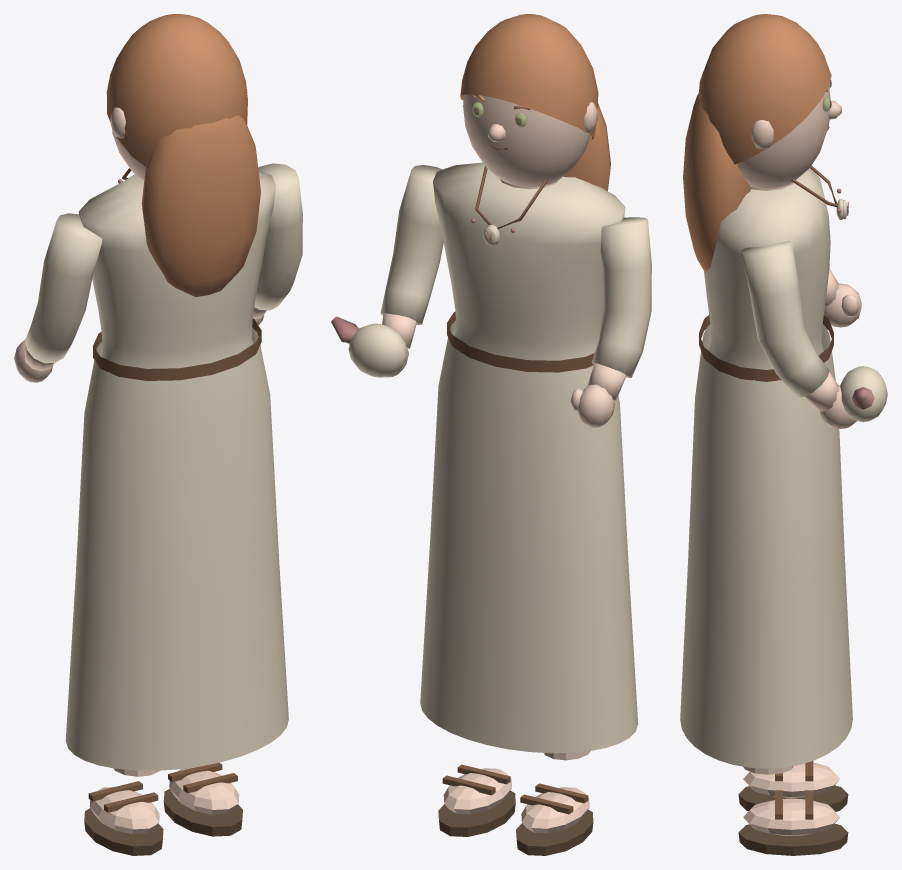
Rendered from SM_NPC_CORAL_ROSA.glb.
3 views of the same model, side by side, from view 1: azimuth 30°, elevation 25°; view 2: azimuth 150°, elevation 25°; view 3: azimuth 270°, elevation 25° (orthographic). The views are drawn at different scales.
Parts seen in each view (by area): view 1: SM_NPC_CORAL_ROSA_BODY, SM_NPC_CORAL_ROSA_HAIR, SM_NPC_CORAL_ROSA_ARM_L, SM_NPC_CORAL_ROSA_ARM_R, SM_NPC_CORAL_ROSA_LEG_L, SM_NPC_CORAL_ROSA_LEG_R, SM_NPC_CORAL_ROSA_HEAD; view 2: SM_NPC_CORAL_ROSA_BODY, SM_NPC_CORAL_ROSA_HAIR, SM_NPC_CORAL_ROSA_ARM_R, SM_NPC_CORAL_ROSA_ARM_L, SM_NPC_CORAL_ROSA_HEAD, SM_NPC_CORAL_ROSA_LEG_L, SM_NPC_CORAL_ROSA_LEG_R; view 3: SM_NPC_CORAL_ROSA_BODY, SM_NPC_CORAL_ROSA_HAIR, SM_NPC_CORAL_ROSA_ARM_R, SM_NPC_CORAL_ROSA_LEG_R, SM_NPC_CORAL_ROSA_HEAD, SM_NPC_CORAL_ROSA_LEG_L, SM_NPC_CORAL_ROSA_ARM_L.
Part boxes in pixels (bbox=[...]): SM_NPC_CORAL_ROSA_BODY: bbox=[65, 168, 288, 770]; SM_NPC_CORAL_ROSA_HAIR: bbox=[106, 14, 260, 296]; SM_NPC_CORAL_ROSA_ARM_L: bbox=[14, 213, 102, 382]; SM_NPC_CORAL_ROSA_ARM_R: bbox=[253, 163, 302, 324]; SM_NPC_CORAL_ROSA_LEG_L: bbox=[84, 768, 163, 855]; SM_NPC_CORAL_ROSA_LEG_R: bbox=[163, 762, 242, 836]; SM_NPC_CORAL_ROSA_HEAD: bbox=[110, 90, 247, 181]; SM_NPC_CORAL_ROSA_BODY: bbox=[420, 162, 638, 753]; SM_NPC_CORAL_ROSA_HAIR: bbox=[460, 14, 610, 190]; SM_NPC_CORAL_ROSA_ARM_R: bbox=[331, 165, 443, 377]; SM_NPC_CORAL_ROSA_ARM_L: bbox=[570, 217, 651, 427]; SM_NPC_CORAL_ROSA_HEAD: bbox=[463, 94, 597, 186]; SM_NPC_CORAL_ROSA_LEG_L: bbox=[516, 751, 593, 855]; SM_NPC_CORAL_ROSA_LEG_R: bbox=[438, 764, 515, 836]; SM_NPC_CORAL_ROSA_BODY: bbox=[680, 165, 852, 768]; SM_NPC_CORAL_ROSA_HAIR: bbox=[683, 14, 831, 273]; SM_NPC_CORAL_ROSA_ARM_R: bbox=[741, 240, 887, 428]; SM_NPC_CORAL_ROSA_LEG_R: bbox=[738, 766, 848, 855]; SM_NPC_CORAL_ROSA_HEAD: bbox=[737, 86, 841, 188]; SM_NPC_CORAL_ROSA_LEG_L: bbox=[738, 761, 848, 811]; SM_NPC_CORAL_ROSA_ARM_L: bbox=[824, 268, 861, 327].
Size of the model in its own units: 0.6556 by 1.81 by 0.4243.
